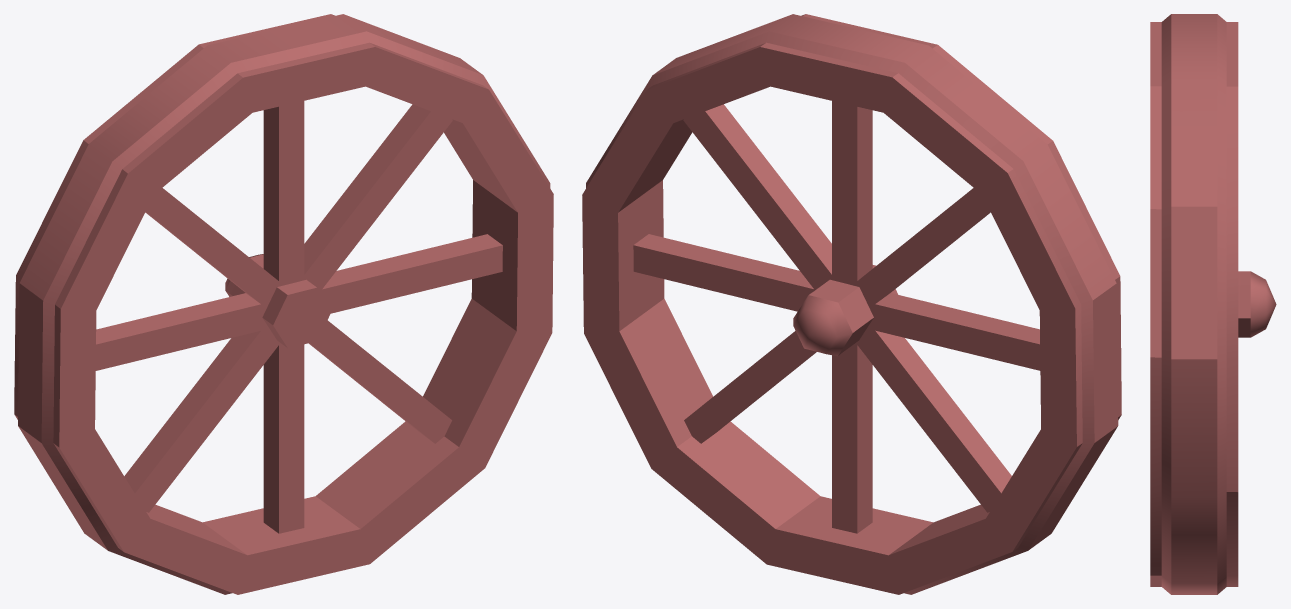
The model's file is Wheel_2.fbx.
The picture shows the model from 3 angles, left to right: view 1: azimuth 30°, elevation 25°; view 2: azimuth 150°, elevation 25°; view 3: azimuth 270°, elevation 25°; orthographic projection. The views are drawn at different scales.
Visible parts, largest first — view 1: W2; view 2: W2; view 3: W2.
Part boxes in pixels (bbox=[...]): W2: bbox=[14, 14, 553, 594]; W2: bbox=[582, 14, 1121, 594]; W2: bbox=[1150, 14, 1276, 594].
Size of the model in its own units: 85.82 by 85.82 by 18.9.
